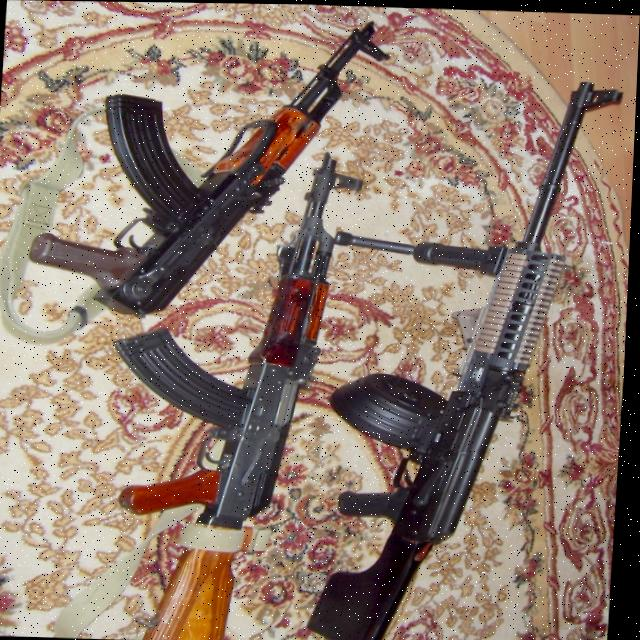firearm: (311, 72, 625, 640), (104, 143, 364, 640), (26, 10, 389, 319)
